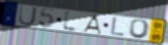5: (39, 7, 56, 29)
A: (81, 14, 102, 35)
L: (61, 9, 80, 34), (110, 17, 126, 37)
O: (128, 19, 152, 40)
U: (17, 4, 38, 27)
